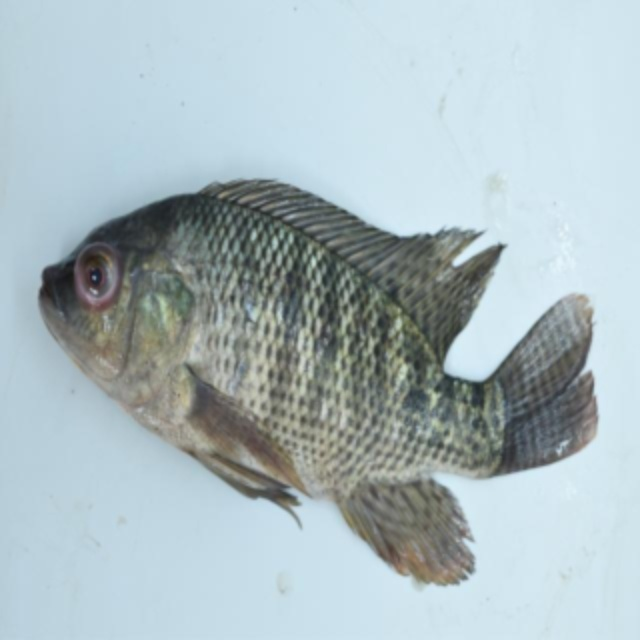Columnaris Disease: (32, 135, 610, 607)
